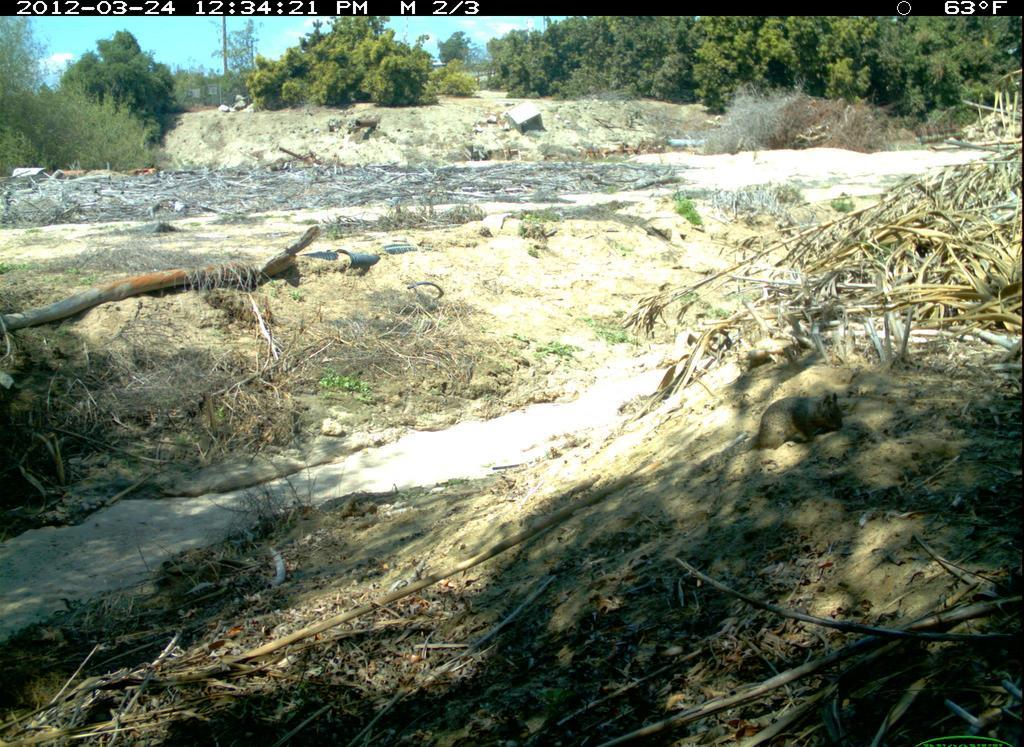squirrel: (685, 387, 849, 484)
